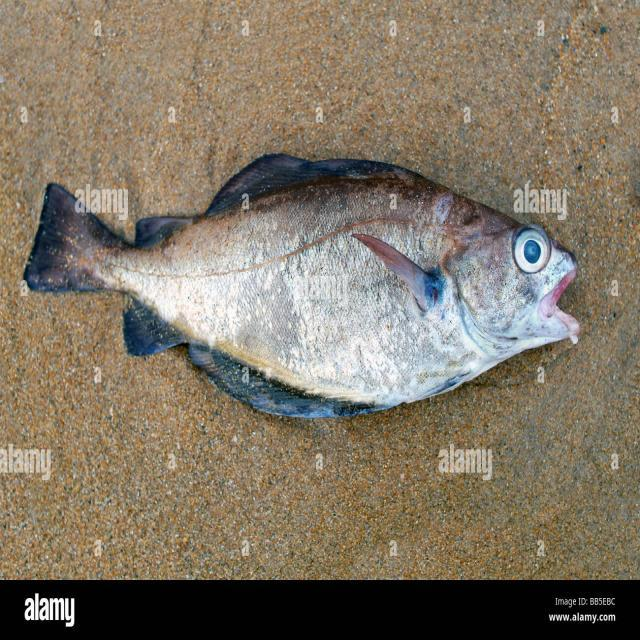EUS Disease: (28, 152, 584, 421)
